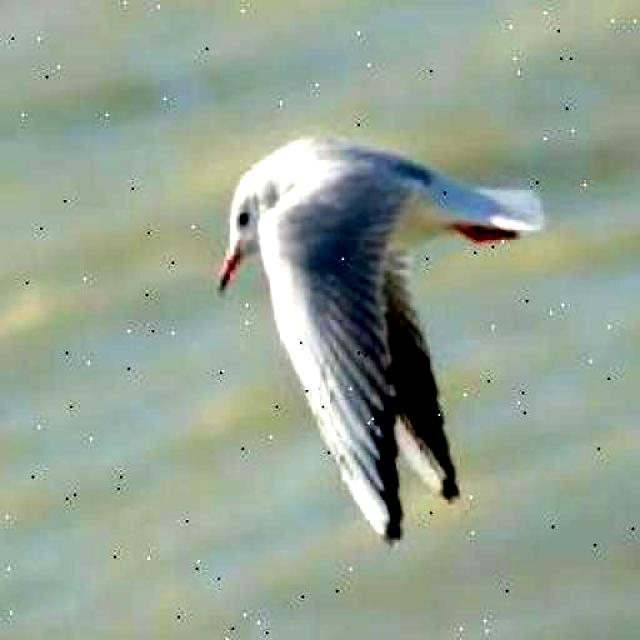airplane: (194, 104, 590, 566)
